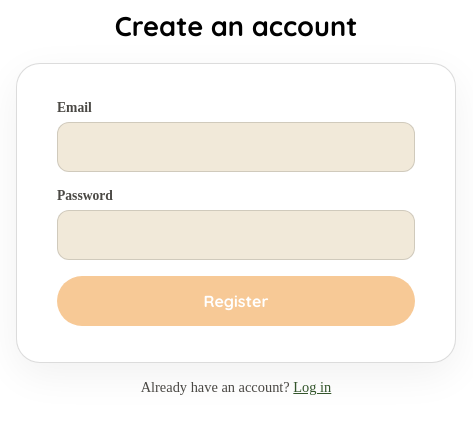
Test: Register › shows a clear inline error for a duplicate email, keeping what was typed (Story 3)
The width and height of the screenshot is (473, 444).
Type "addie@example.com" into the field labelled "Email" at coordinates (236, 147), box left=57, top=122, right=415, bottom=172
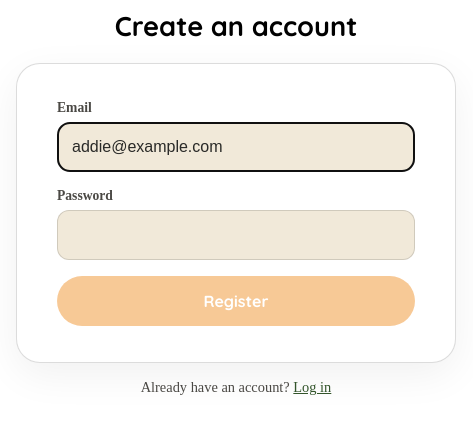
Type "correct-horse-battery-staple" into the password field labelled "Password" at coordinates (236, 235), box left=57, top=210, right=415, bottom=260
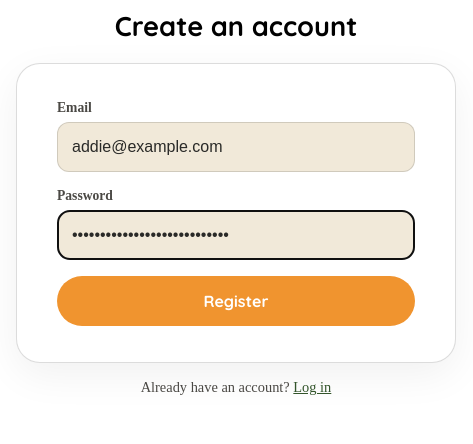
Click the button "Register" at coordinates (236, 301), box left=57, top=276, right=415, bottom=326
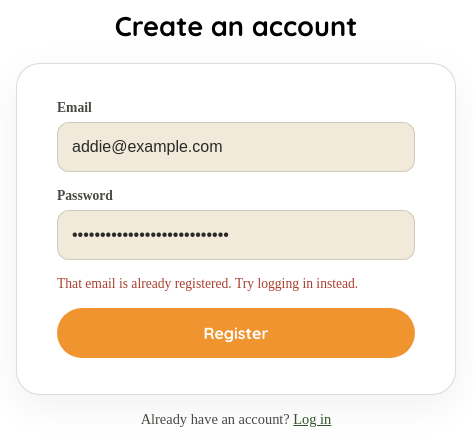
Expected: the text "That email is already registered. Try logging in instead." is shown, left=57, top=276, right=358, bottom=291
